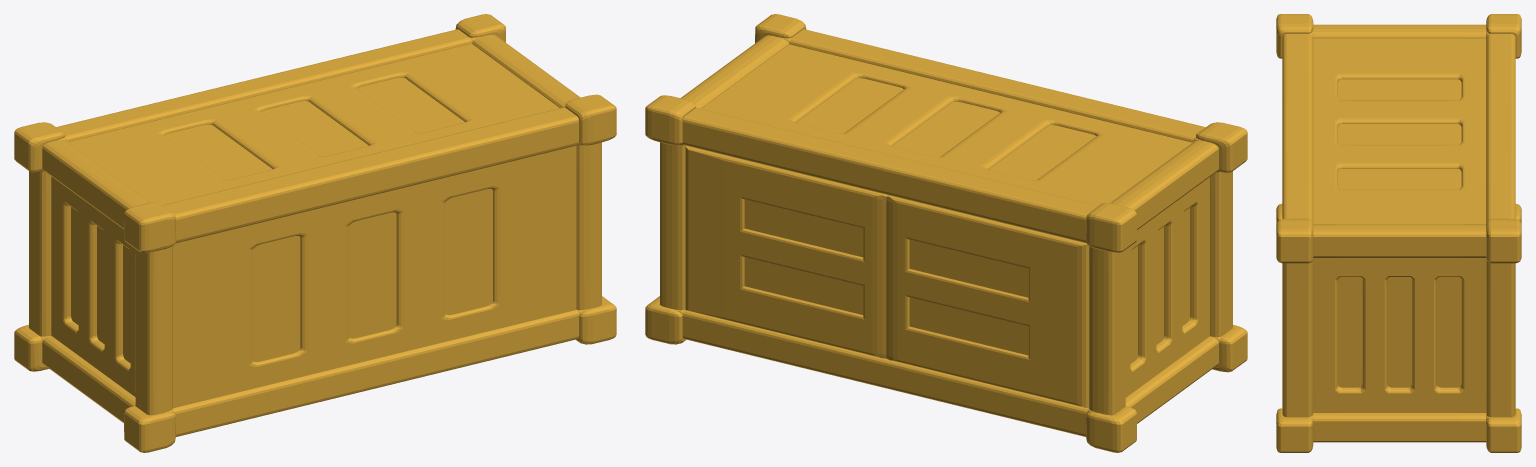
The model's file is cargo_yellow.fbx.
3 renders of one model, left to right at view 1: azimuth 30°, elevation 25°; view 2: azimuth 150°, elevation 25°; view 3: azimuth 270°, elevation 25°, orthographic. The views are drawn at different scales.
Visible parts, largest first — view 1: Cube.020; view 2: Cube.020; view 3: Cube.020.
Part boxes in pixels (bbox=[...]): Cube.020: bbox=[14, 14, 616, 452]; Cube.020: bbox=[645, 14, 1247, 452]; Cube.020: bbox=[1276, 14, 1521, 452].
Size of the model in its own units: 3.65 by 1.71 by 1.71.
